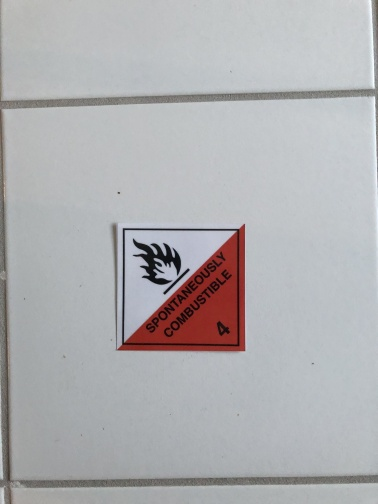SpontaneouslyCombustible: (114, 224, 247, 351)
